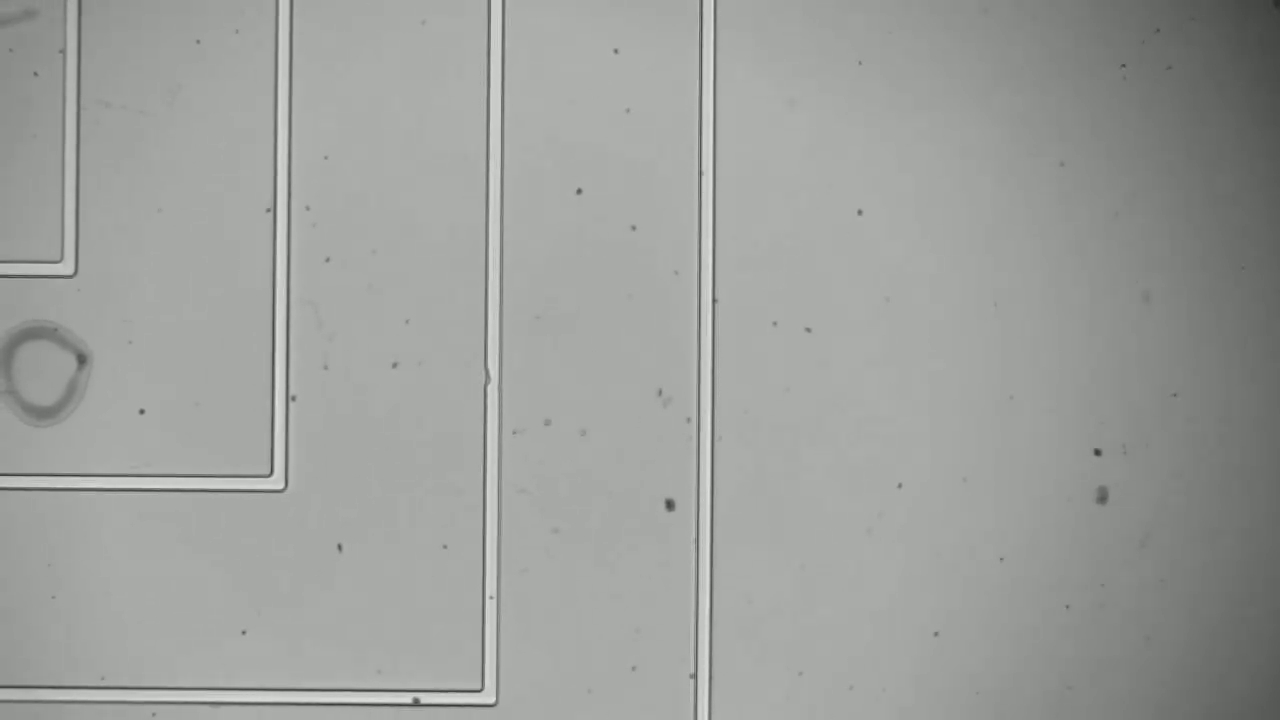edge_bite: (472, 360, 508, 392)
stains_enbedded: (406, 680, 430, 708)
